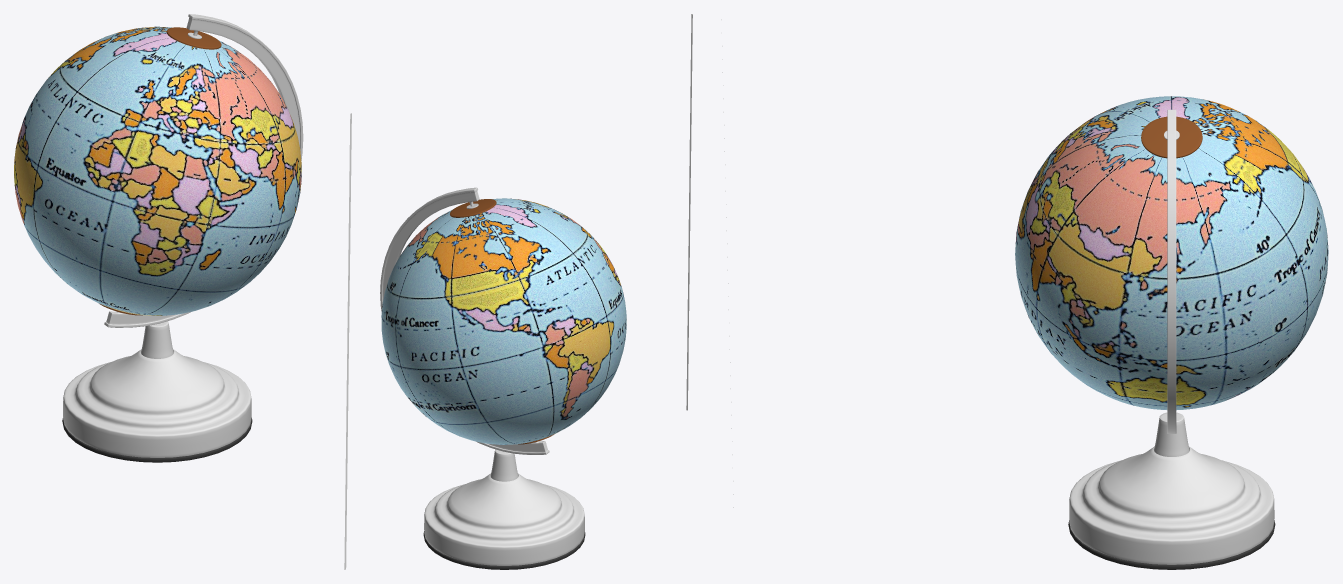
3 renders of one model, left to right at view 1: azimuth 30°, elevation 25°; view 2: azimuth 150°, elevation 25°; view 3: azimuth 270°, elevation 25°, orthographic. The views are drawn at different scales.
Visible parts, largest first — view 1: globe, Плоскость; view 2: globe, Плоскость; view 3: globe.
Boxes of the visible parts, <box> form: globe: <box>14,14,303,462</box>; Плоскость: <box>344,113,351,569</box>; globe: <box>380,187,626,569</box>; Плоскость: <box>686,14,692,410</box>; globe: <box>1015,96,1328,569</box>.
Bounding box in the file's own units: 19.38 × 32.04 × 34.9.
Materials: 5 (1 with a texture image).
